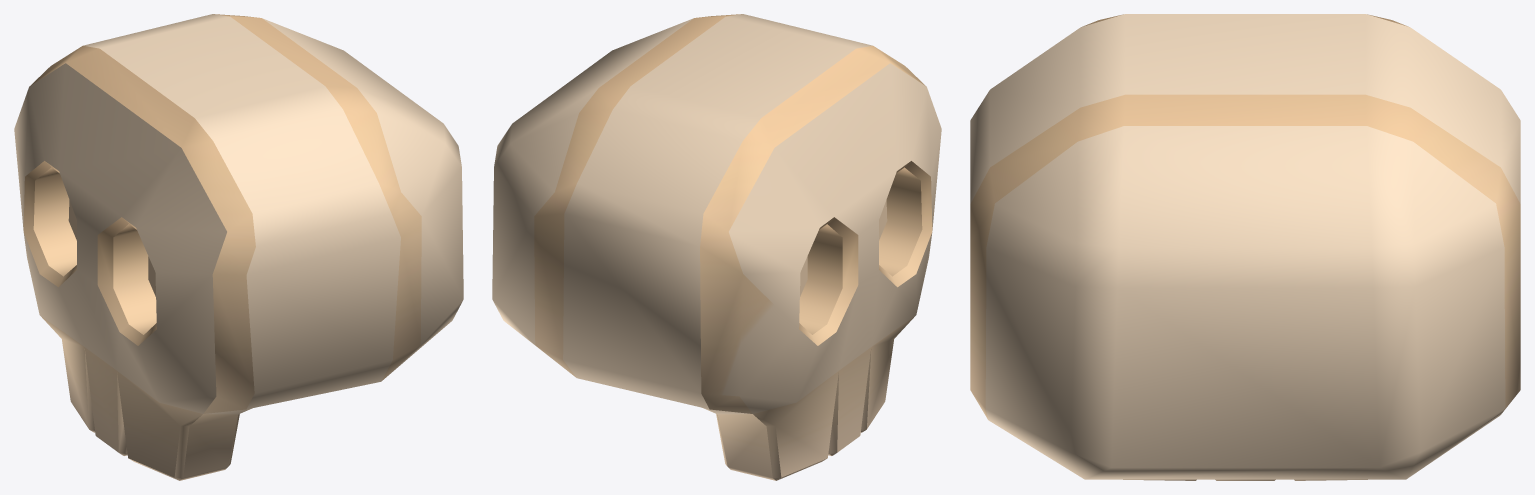
Rendered from Skull_1.glb.
The picture shows the model from 3 angles, left to right: view 1: azimuth 30°, elevation 25°; view 2: azimuth 150°, elevation 25°; view 3: azimuth 270°, elevation 25°; orthographic projection. The views are drawn at different scales.
Parts seen in each view (by area): view 1: Skull_1; view 2: Skull_1; view 3: Skull_1.
Boxes of the visible parts, x1,y1,x2,y2 form: Skull_1: [14, 14, 463, 480]; Skull_1: [492, 14, 941, 480]; Skull_1: [970, 14, 1520, 480].
Bounding box in the file's own units: 0.3327 × 0.3529 × 0.3903.
Materials: 1 (1 with a texture image).
